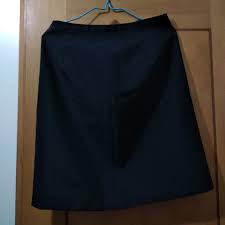F_tailored skirt: (28, 10, 222, 216)
